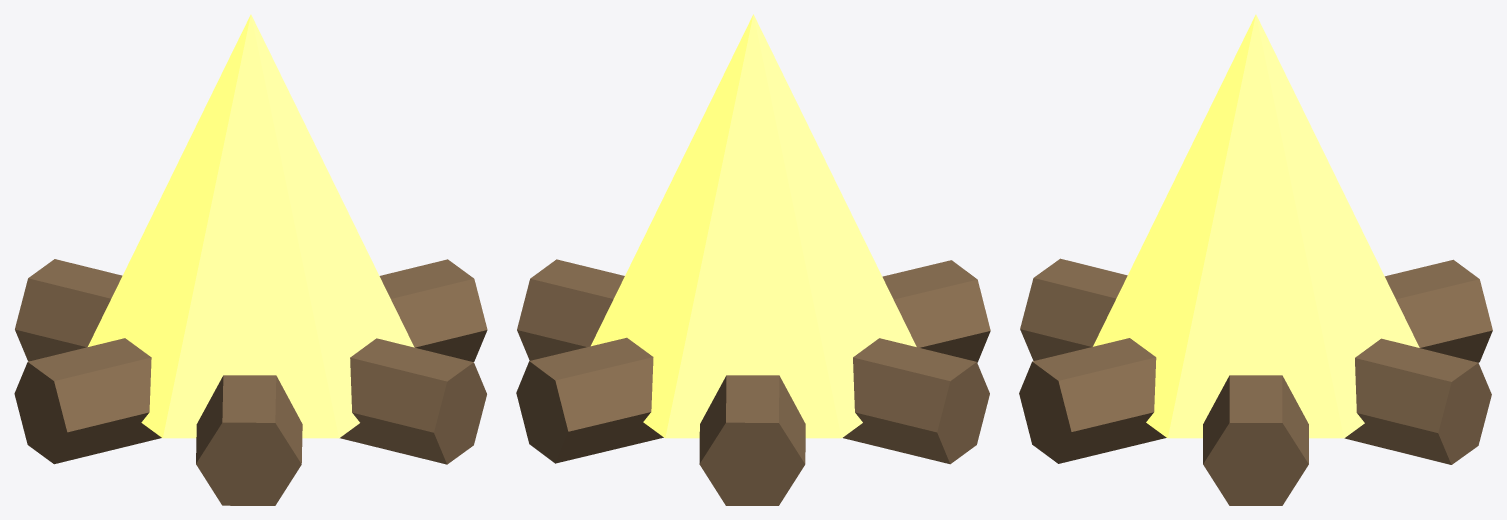
The model's file is campfire.glb.
The picture shows the model from 3 angles, left to right: view 1: azimuth 30°, elevation 25°; view 2: azimuth 150°, elevation 25°; view 3: azimuth 270°, elevation 25°; orthographic projection.
Parts seen in each view (by area): view 1: CampfireFlame, CampfireLog0, CampfireLog1, CampfireLog2; view 2: CampfireFlame, CampfireLog2, CampfireLog0, CampfireLog1; view 3: CampfireFlame, CampfireLog1, CampfireLog2, CampfireLog0.
Part boxes in pixels (bbox=[...]): CampfireFlame: bbox=[88, 14, 414, 438]; CampfireLog0: bbox=[14, 259, 487, 464]; CampfireLog1: bbox=[15, 259, 486, 464]; CampfireLog2: bbox=[196, 375, 302, 505]; CampfireFlame: bbox=[591, 14, 916, 438]; CampfireLog2: bbox=[516, 260, 990, 463]; CampfireLog0: bbox=[517, 259, 989, 464]; CampfireLog1: bbox=[699, 375, 805, 505]; CampfireFlame: bbox=[1093, 14, 1419, 438]; CampfireLog1: bbox=[1019, 259, 1492, 463]; CampfireLog2: bbox=[1020, 258, 1491, 464]; CampfireLog0: bbox=[1203, 375, 1308, 505].
Bounding box in the file's own units: 1.1 × 0.9739 × 1.07.
